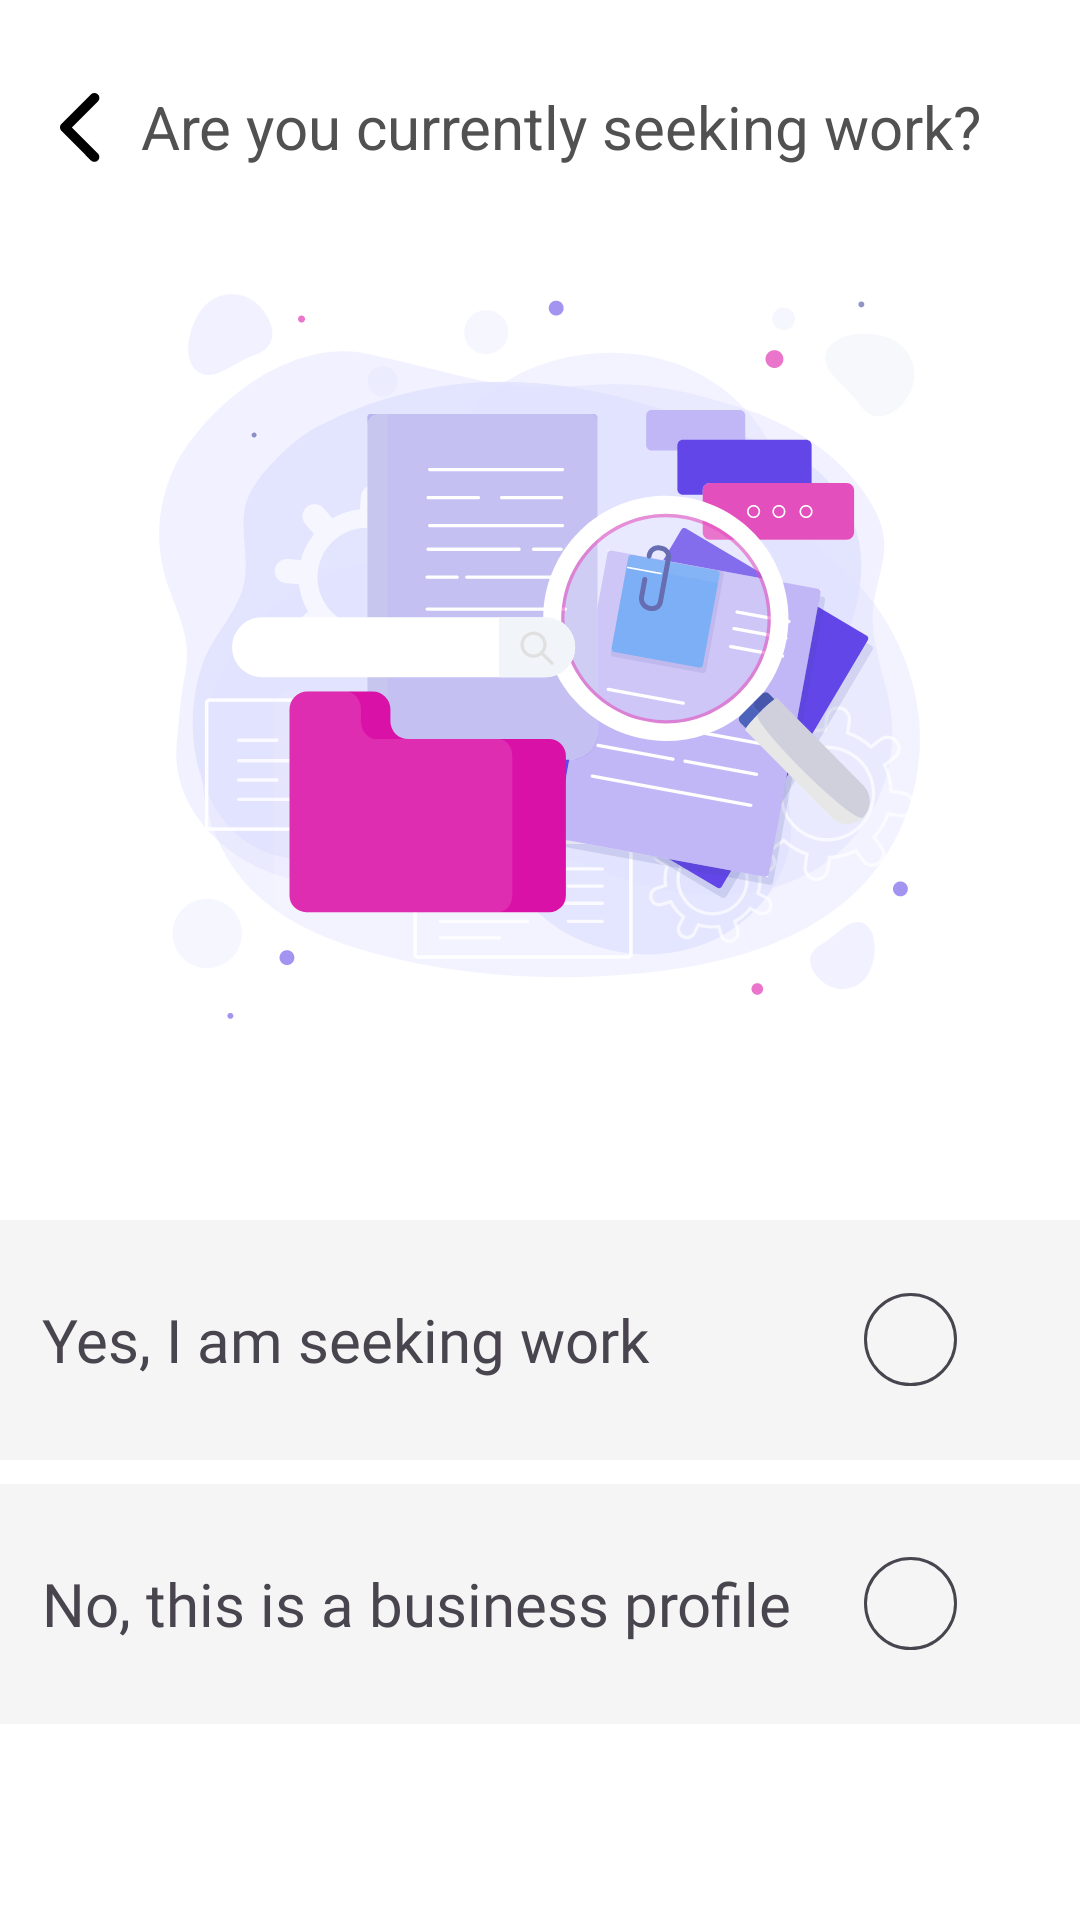

Screen size 1080px×1920px. Icon name, then its center in pixels as (x=x, y=y):
custom checkbox: (x=910, y=1339), (x=910, y=1603)
seeking back: (x=80, y=127)
